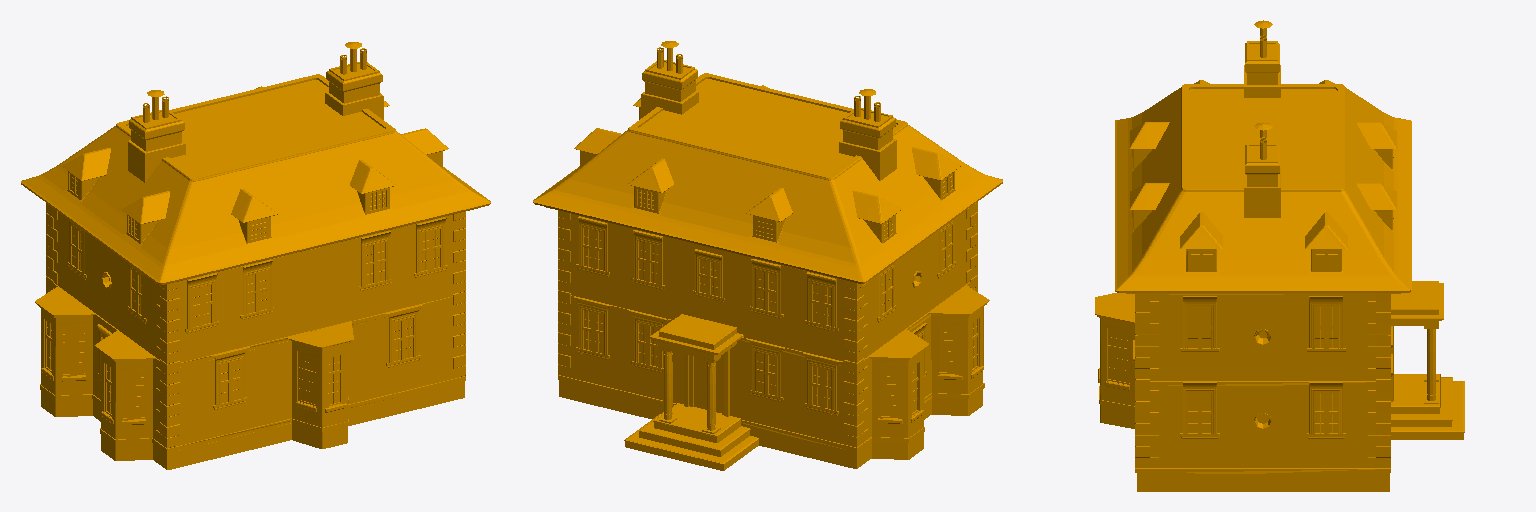
URDF robot description (cube):
<?xml version="1.0" ?>
<robot name="cube">
  <link name="baseLink">
    <contact>
      <lateral_friction value="1.0"/>
      <rolling_friction value="0.0"/>
      <contact_cfm value="0.0"/>
      <contact_erp value="1.0"/>
    </contact>
    <inertial>
      <origin rpy="0 0 0" xyz="0 0 0"/>
       <mass value="1.0"/>
       <inertia ixx="1" ixy="0" ixz="0" iyy="1" iyz="0" izz="1"/>
    </inertial>
    <visual>
      <origin rpy="1.5708 0 0" xyz="0 0 0"/>
      <geometry>
				<mesh filename="house.obj" scale="0.5 0.5 0.5 "/>
      </geometry>
       <material name="test">
       <texture filename="House_Diff_5k.png"/>
      </material>
    </visual>
    <collision>
      <origin rpy="0 0 0" xyz="0 0 0"/>
      <geometry>
	 	<box size="1 1 1"/>
      </geometry>
    </collision>
  </link>
</robot>

--- What the picture shows (computed from the rendered views, not written in the file) ---
3 views of the same robot in one strip: view 1: azimuth 30°, elevation 25°; view 2: azimuth 150°, elevation 25°; view 3: azimuth 270°, elevation 25° (orthographic).
Model cube with 1 links and 0 joints (none), rooted at baseLink, posed every joint at zero.
Visible links, largest first — view 1: baseLink; view 2: baseLink; view 3: baseLink.
Link boxes in pixels (box(x1,y1,x2,y2)): baseLink: box(21, 42, 490, 469); baseLink: box(533, 41, 1002, 470); baseLink: box(1095, 20, 1464, 491).
Bounding box of the posed robot: 8.39 × 7.3 × 7.43 m (x, y, z).
Meshes: 1 distinct files referenced, 1 mesh visuals loaded (1 OBJ).